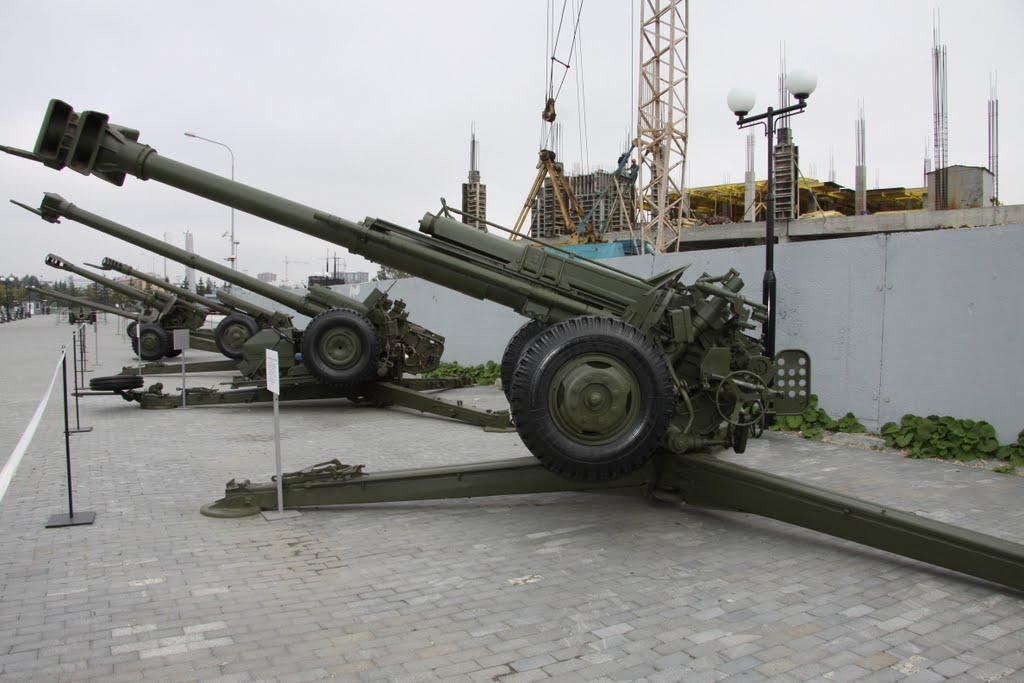sau: (19, 91, 839, 596), (20, 180, 463, 438), (38, 244, 272, 362), (20, 269, 236, 364)
